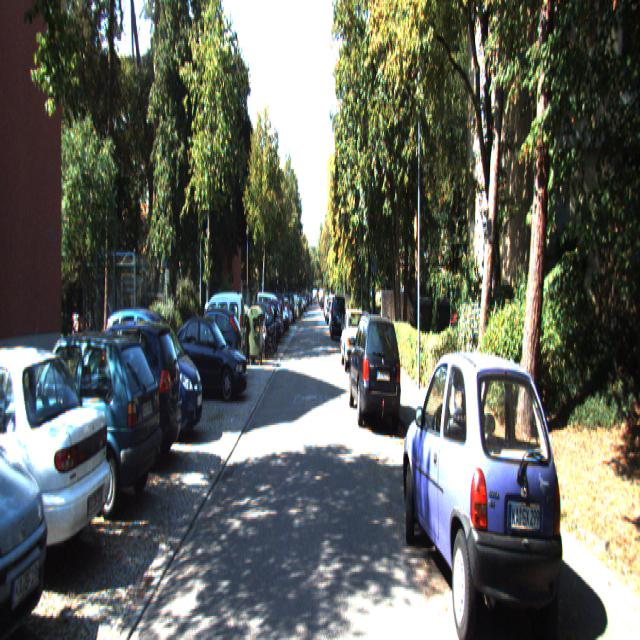Car: (401, 338, 572, 638), (0, 322, 164, 520), (0, 338, 114, 594), (51, 318, 184, 476), (97, 300, 203, 440), (166, 316, 250, 408), (348, 311, 402, 430), (178, 305, 242, 390), (194, 293, 247, 378), (339, 309, 369, 374), (329, 295, 346, 343)
